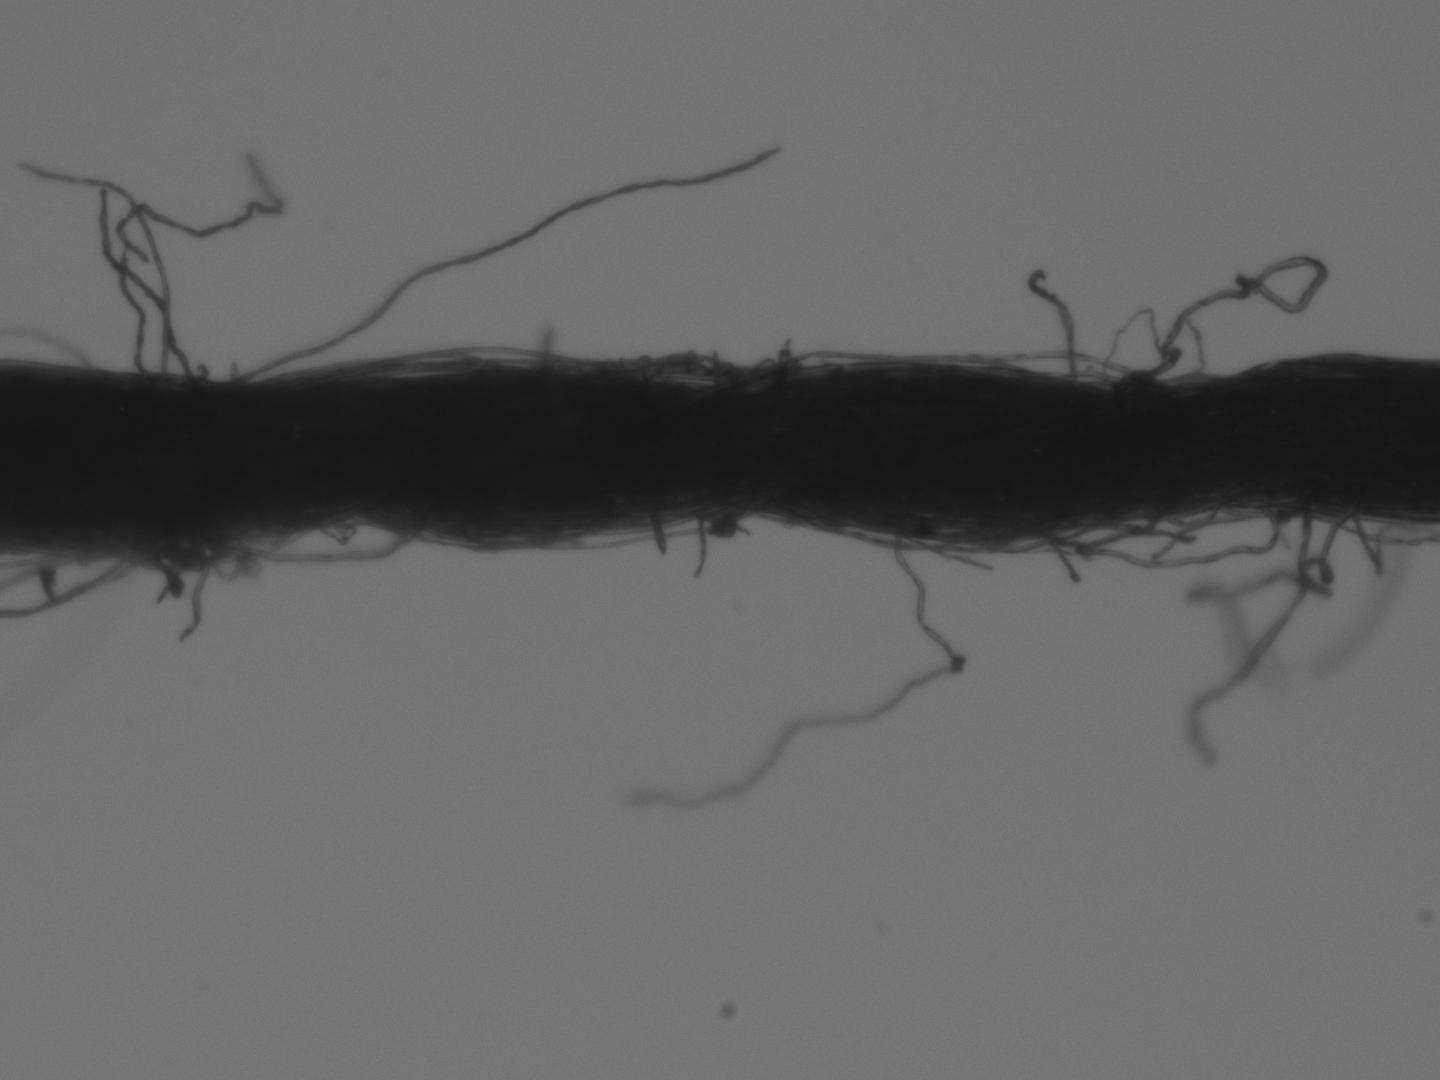loop_fiber: (1047, 499, 1282, 566), (231, 523, 412, 563), (272, 352, 486, 379), (1286, 505, 1433, 542), (581, 352, 732, 385), (998, 349, 1125, 387), (774, 347, 917, 373), (1159, 504, 1262, 528), (744, 344, 798, 382), (128, 539, 203, 565), (1109, 365, 1168, 395)
protruding_fiber: (215, 142, 779, 383), (629, 528, 960, 811), (1028, 268, 1083, 382), (172, 545, 220, 644), (1037, 517, 1081, 585), (689, 515, 704, 581), (649, 516, 664, 559)
